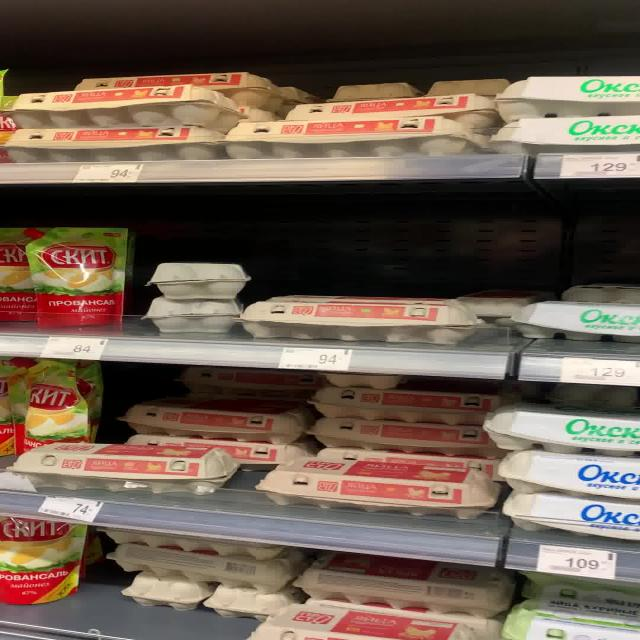egg box: (260, 454, 500, 520), (11, 439, 237, 497), (16, 223, 130, 331), (234, 301, 484, 345), (221, 118, 489, 158), (118, 392, 307, 444), (4, 88, 237, 130), (9, 358, 95, 460), (311, 381, 501, 426), (0, 512, 89, 604), (4, 128, 228, 163), (308, 415, 503, 450)
